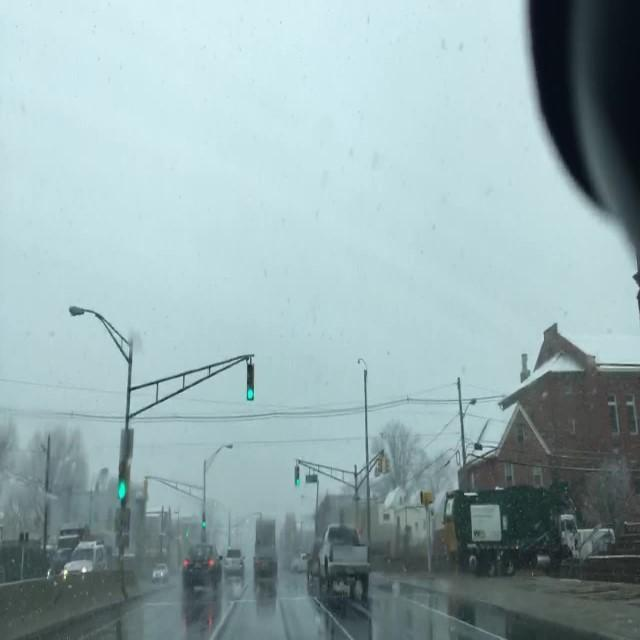normal: (290, 513, 386, 600), (156, 532, 239, 599)
